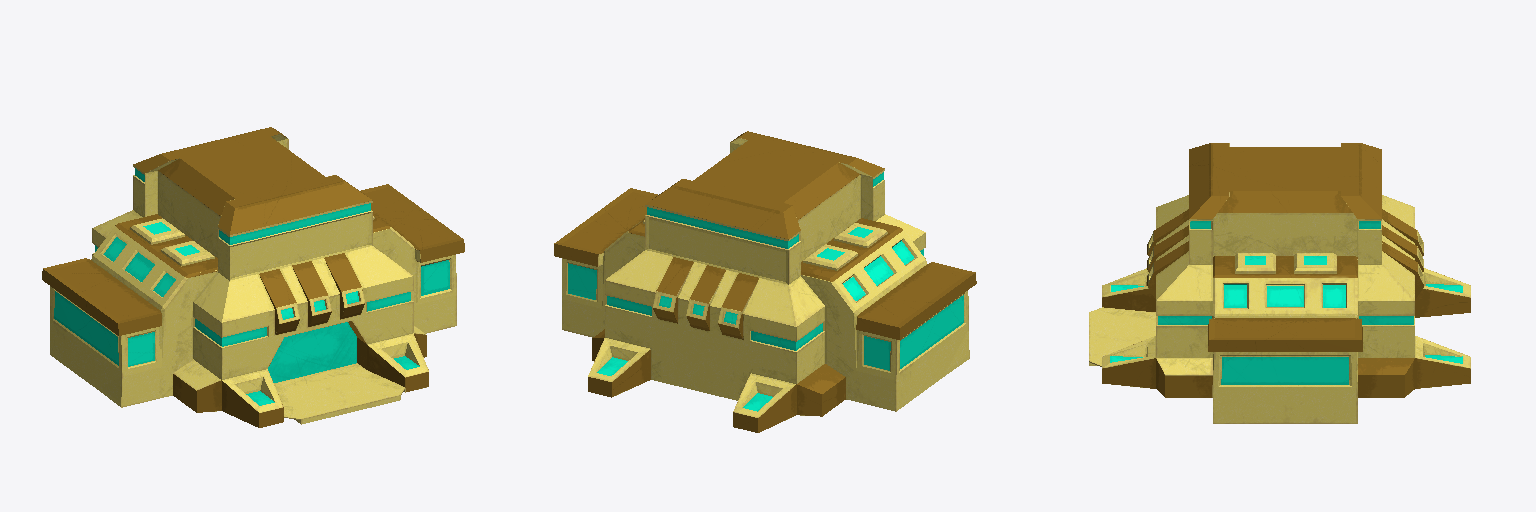
The picture shows the model from 3 angles: view 1: azimuth 30°, elevation 25°; view 2: azimuth 150°, elevation 25°; view 3: azimuth 270°, elevation 25°; orthographic projection.
Parts seen in each view (by area): view 1: drorania_hospital; view 2: drorania_hospital; view 3: drorania_hospital.
Part boxes in pixels (left/top/right/bottom): drorania_hospital: left=42, top=127, right=464, bottom=427; drorania_hospital: left=554, top=131, right=976, bottom=432; drorania_hospital: left=1089, top=143, right=1470, bottom=423.
Bounding box in the file's own units: 312 × 149 × 299.
Materials: 1 (1 with a texture image).